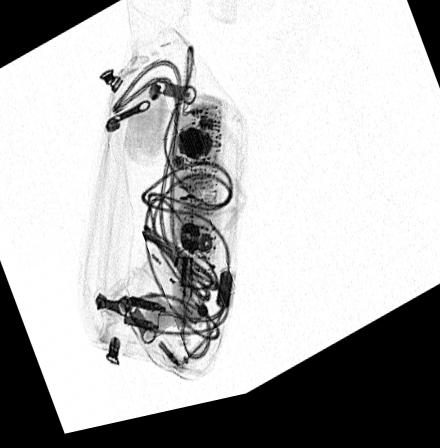Lighter: (141, 255, 209, 337)
